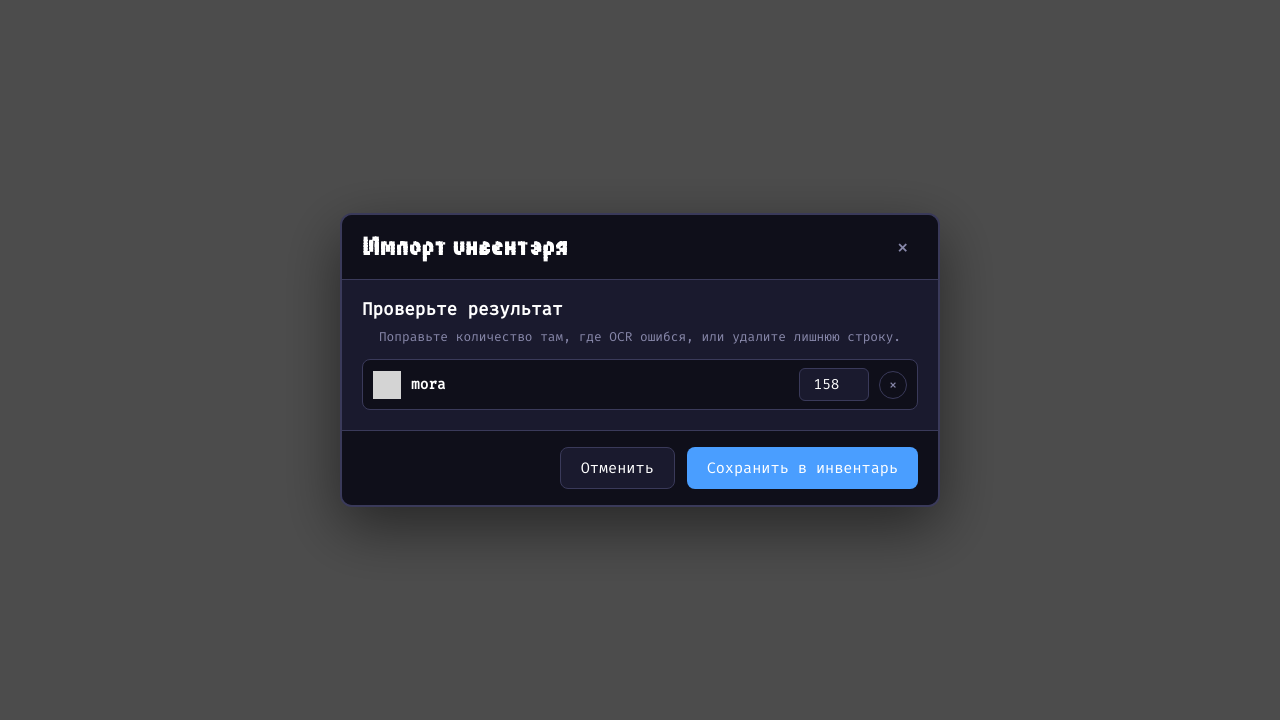
Scenario: OcrImportModal — экран "Готово" с кнопкой "Сканировать ещё" (вариант B) › после подтверждения показывает кнопку "Сканировать ещё" рядом с "Закрыть", не требуя переоткрывать модалку
The width and height of the screenshot is (1280, 720).
Click the button "Сохранить в инвентарь" at (802, 468), box x1=687 y1=447 x2=918 y2=489
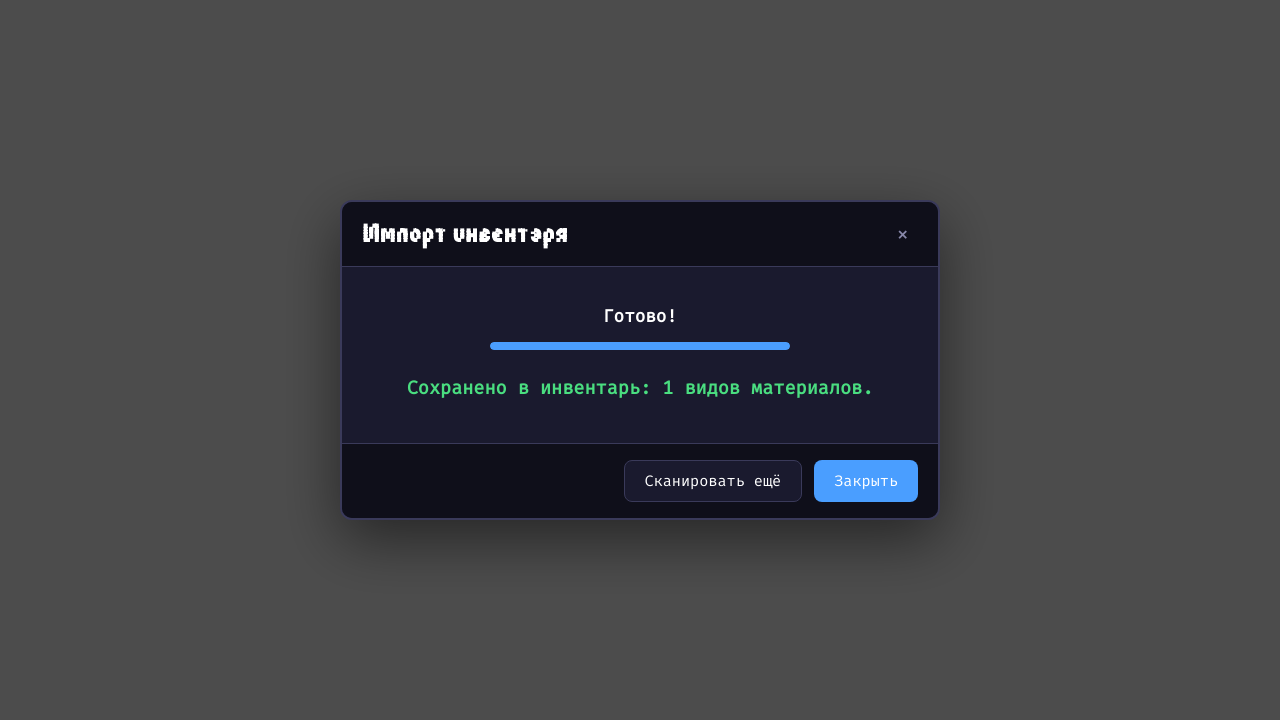
expect the text "Сохранено в инвентарь: 1 видов материалов." is shown: met, box x1=407 y1=374 x2=873 y2=403
expect the button "Сканировать ещё" is shown: met, box x1=624 y1=460 x2=802 y2=502
expect the button "Закрыть" is shown: met, box x1=814 y1=460 x2=918 y2=502
